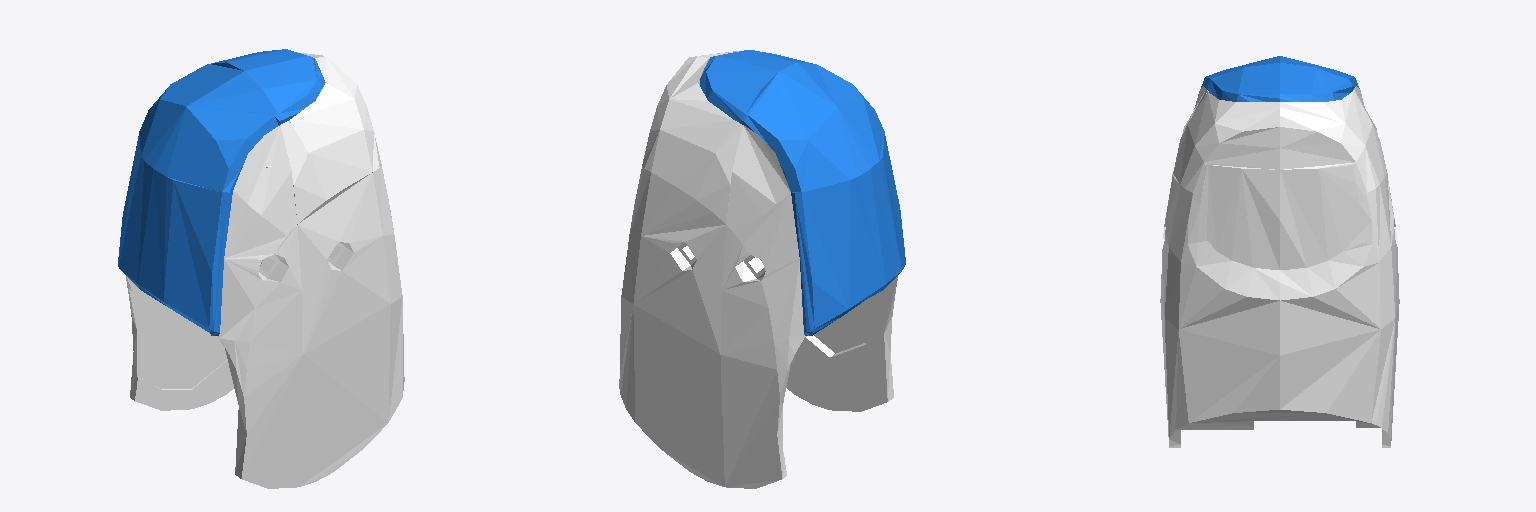
Rendered from hit-hand-2-finger-phadist.obj.
3 views of the same model, side by side, from view 1: azimuth 30°, elevation 25°; view 2: azimuth 150°, elevation 25°; view 3: azimuth 270°, elevation 25° (orthographic).
Parts seen in each view (by area): view 1: IndexedTriangleStripSet_18_IndexedTriangleStripSet_19, IndexedTriangleStripSet_16_IndexedTriangleStripSet_17, IndexedTriangleStripSet_14_IndexedTriangleStripSet_15, IndexedTriangleStripSet_8_IndexedTriangleStripSet_9, IndexedTriangleStripSet_10_IndexedTriangleStripSet_11, IndexedTriangleStripSet_12_IndexedTriangleStripSet_13, IndexedTriangleStripSet_2_IndexedTriangleStripSet_3; view 2: IndexedTriangleStripSet_18_IndexedTriangleStripSet_19, IndexedTriangleStripSet_16_IndexedTriangleStripSet_17, IndexedTriangleStripSet_14_IndexedTriangleStripSet_15, IndexedTriangleStripSet_10_IndexedTriangleStripSet_11, IndexedTriangleStripSet_2_IndexedTriangleStripSet_3, IndexedTriangleStripSet_8_IndexedTriangleStripSet_9, IndexedTriangleStripSet_12_IndexedTriangleStripSet_13, IndexedTriangleStripSet_IndexedTriangleStripSet_1; view 3: IndexedTriangleStripSet_18_IndexedTriangleStripSet_19, IndexedTriangleStripSet_14_IndexedTriangleStripSet_15, IndexedTriangleStripSet_10_IndexedTriangleStripSet_11, IndexedTriangleStripSet_16_IndexedTriangleStripSet_17, IndexedTriangleStripSet_2_IndexedTriangleStripSet_3, IndexedTriangleStripSet_8_IndexedTriangleStripSet_9, IndexedTriangleStripSet_12_IndexedTriangleStripSet_13.
Boxes of the visible parts, box(x1,y1,x2,y2) form: IndexedTriangleStripSet_18_IndexedTriangleStripSet_19: box(126, 52, 404, 488); IndexedTriangleStripSet_16_IndexedTriangleStripSet_17: box(119, 49, 323, 335); IndexedTriangleStripSet_14_IndexedTriangleStripSet_15: box(126, 54, 402, 485); IndexedTriangleStripSet_8_IndexedTriangleStripSet_9: box(138, 49, 320, 335); IndexedTriangleStripSet_10_IndexedTriangleStripSet_11: box(129, 130, 402, 488); IndexedTriangleStripSet_12_IndexedTriangleStripSet_13: box(119, 49, 322, 335); IndexedTriangleStripSet_2_IndexedTriangleStripSet_3: box(225, 120, 385, 484); IndexedTriangleStripSet_18_IndexedTriangleStripSet_19: box(619, 51, 897, 486); IndexedTriangleStripSet_16_IndexedTriangleStripSet_17: box(700, 50, 905, 335); IndexedTriangleStripSet_14_IndexedTriangleStripSet_15: box(619, 51, 895, 486); IndexedTriangleStripSet_10_IndexedTriangleStripSet_11: box(627, 168, 886, 488); IndexedTriangleStripSet_2_IndexedTriangleStripSet_3: box(651, 120, 897, 486); IndexedTriangleStripSet_8_IndexedTriangleStripSet_9: box(702, 58, 905, 334); IndexedTriangleStripSet_12_IndexedTriangleStripSet_13: box(700, 50, 901, 327); IndexedTriangleStripSet_IndexedTriangleStripSet_1: box(713, 64, 847, 332); IndexedTriangleStripSet_18_IndexedTriangleStripSet_19: box(1160, 86, 1399, 447); IndexedTriangleStripSet_14_IndexedTriangleStripSet_15: box(1161, 87, 1395, 447); IndexedTriangleStripSet_10_IndexedTriangleStripSet_11: box(1163, 92, 1399, 438); IndexedTriangleStripSet_16_IndexedTriangleStripSet_17: box(1208, 56, 1359, 101); IndexedTriangleStripSet_2_IndexedTriangleStripSet_3: box(1169, 92, 1390, 447); IndexedTriangleStripSet_8_IndexedTriangleStripSet_9: box(1201, 57, 1352, 101); IndexedTriangleStripSet_12_IndexedTriangleStripSet_13: box(1207, 67, 1355, 101).
Bounding box in the file's own units: 0.0243 × 0.0369 × 0.0213.